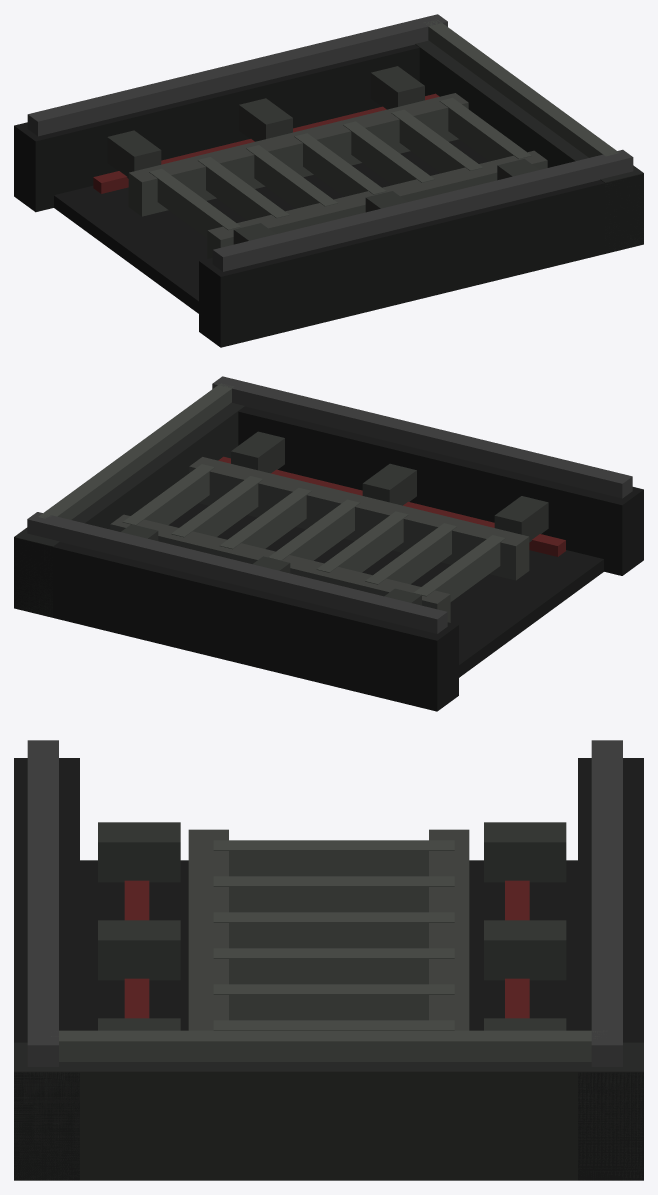
File: CMU3DRMCOverheadLatticeHorizontal5CCloud.glb
3 views of the same model, one above another, from view 1: azimuth 30°, elevation 25°; view 2: azimuth 150°, elevation 25°; view 3: azimuth 270°, elevation 25° (orthographic). The views are drawn at different scales.
Parts seen in each view (by area): view 1: outer structural chord (×2), raised chord top lip (×2), inner parallel rail (×2), recessed dark source channel web, closed source end cap, raised end cap top, center cross brace 0, center cross brace 5, center cross brace 2, center cross brace 4, center cross brace 6, center cross brace 1 (+5 smaller); view 2: outer structural chord (×2), raised chord top lip (×2), inner parallel rail (×2), recessed dark source channel web, closed source end cap, raised end cap top, center cross brace 0, center cross brace 5, center cross brace 2, center cross brace 4, center cross brace 6, center cross brace 1 (+5 smaller); view 3: closed source end cap, outer structural chord (×2), raised chord top lip (×2), recessed dark source channel web, raised end cap top, inner parallel rail (×2), conduit cross clamp 0 (×2), conduit cross clamp 1 (×2), center cross brace 0, center cross brace 1, center cross brace 2, center cross brace 3 (+4 smaller).
Part boxes in pixels (x1,y1,x2,y2): outer structural chord (×2): [14, 44, 643, 347]; raised chord top lip (×2): [27, 14, 633, 271]; inner parallel rail (×2): [128, 93, 547, 258]; recessed dark source channel web: [54, 139, 489, 313]; closed source end cap: [415, 40, 643, 249]; raised end cap top: [423, 19, 619, 157]; center cross brace 0: [149, 168, 240, 237]; center cross brace 5: [391, 109, 483, 173]; center cross brace 2: [246, 145, 337, 208]; center cross brace 4: [343, 121, 434, 184]; center cross brace 6: [439, 97, 531, 161]; center cross brace 1: [197, 157, 289, 220]; outer structural chord (×2): [14, 406, 643, 711]; raised chord top lip (×2): [27, 376, 632, 633]; inner parallel rail (×2): [110, 457, 529, 622]; recessed dark source channel web: [168, 503, 603, 677]; closed source end cap: [14, 402, 244, 617]; raised end cap top: [38, 383, 233, 519]; center cross brace 0: [414, 535, 505, 601]; center cross brace 5: [171, 476, 263, 537]; center cross brace 2: [316, 511, 408, 572]; center cross brace 4: [219, 488, 311, 549]; center cross brace 6: [122, 464, 214, 525]; center cross brace 1: [365, 523, 456, 584]; closed source end cap: [14, 1042, 643, 1180]; outer structural chord (×2): [14, 758, 643, 1180]; raised chord top lip (×2): [27, 740, 622, 1066]; recessed dark source channel web: [80, 860, 577, 1030]; raised end cap top: [51, 1030, 606, 1061]; inner parallel rail (×2): [188, 829, 469, 1030]; conduit cross clamp 0 (×2): [98, 822, 566, 882]; conduit cross clamp 1 (×2): [98, 920, 566, 980]; center cross brace 0: [213, 840, 454, 876]; center cross brace 1: [213, 876, 454, 912]; center cross brace 2: [213, 912, 454, 948]; center cross brace 3: [213, 948, 454, 984].
Bounding box in the file's own units: 0.8125 × 0.157 × 0.6875.
